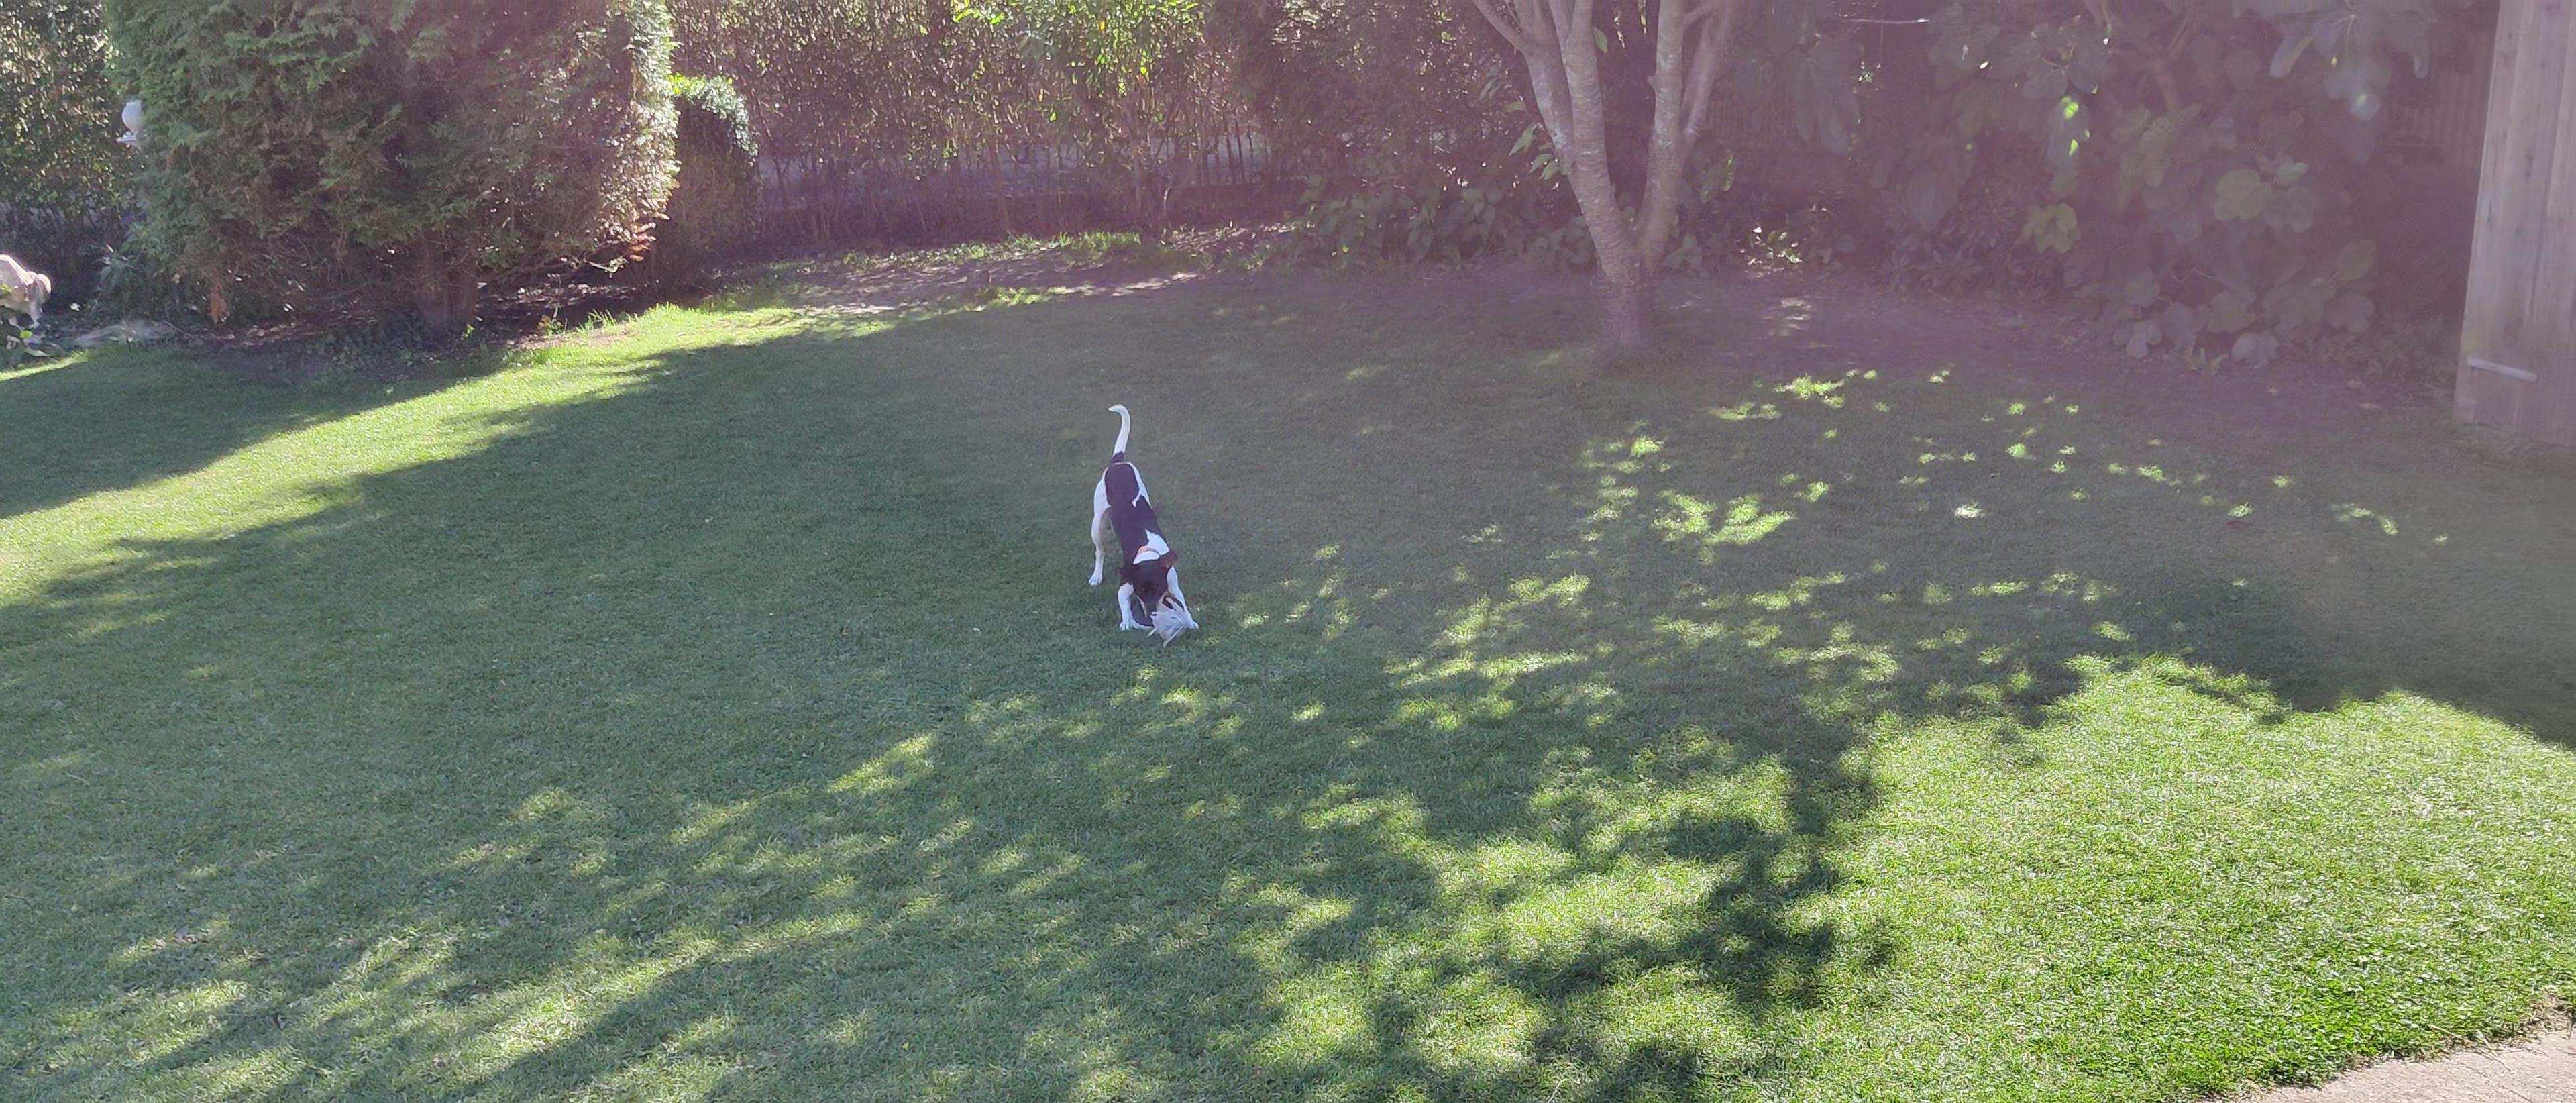Dog: (1065, 386, 1211, 638)
